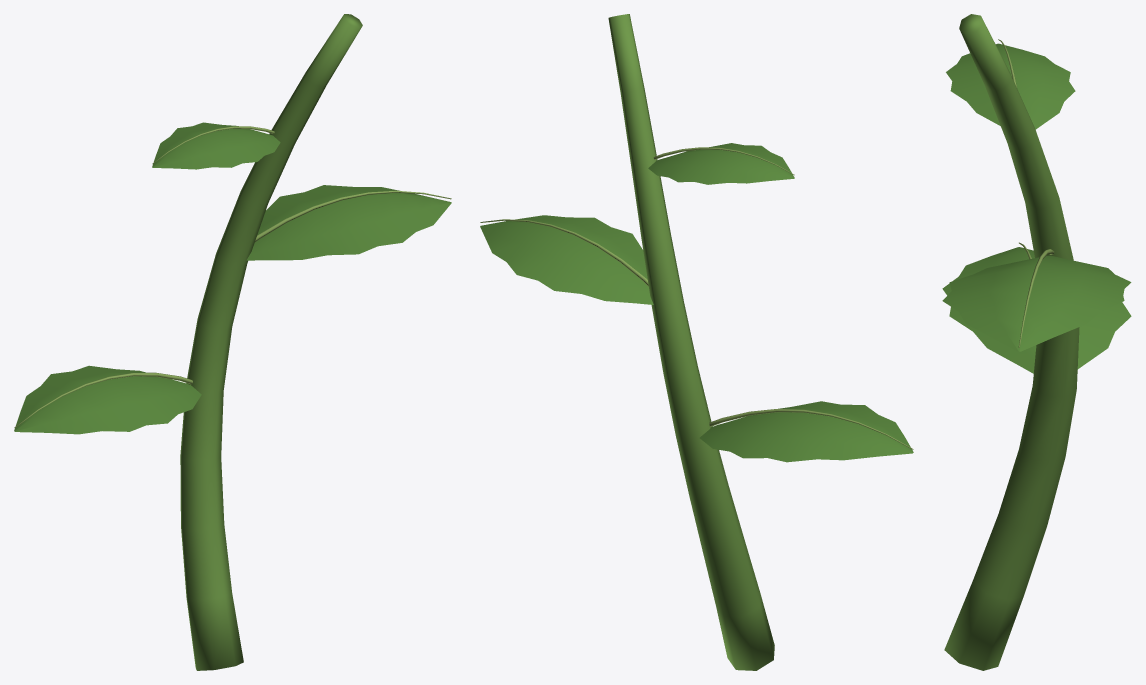
Rendered from sunflower-test-leaves-0.glb.
3 renders of one model, left to right at view 1: azimuth 30°, elevation 25°; view 2: azimuth 150°, elevation 25°; view 3: azimuth 270°, elevation 25°, orthographic. The views are drawn at different scales.
Parts seen in each view (by area): view 1: Curved tapered stem; view 2: Curved tapered stem; view 3: Curved tapered stem.
Part boxes in pixels (bbox=[...]): Curved tapered stem: bbox=[14, 14, 451, 670]; Curved tapered stem: bbox=[480, 14, 913, 670]; Curved tapered stem: bbox=[942, 14, 1131, 670].
Size of the model in its own units: 0.1791 by 0.2448 by 0.0582.
